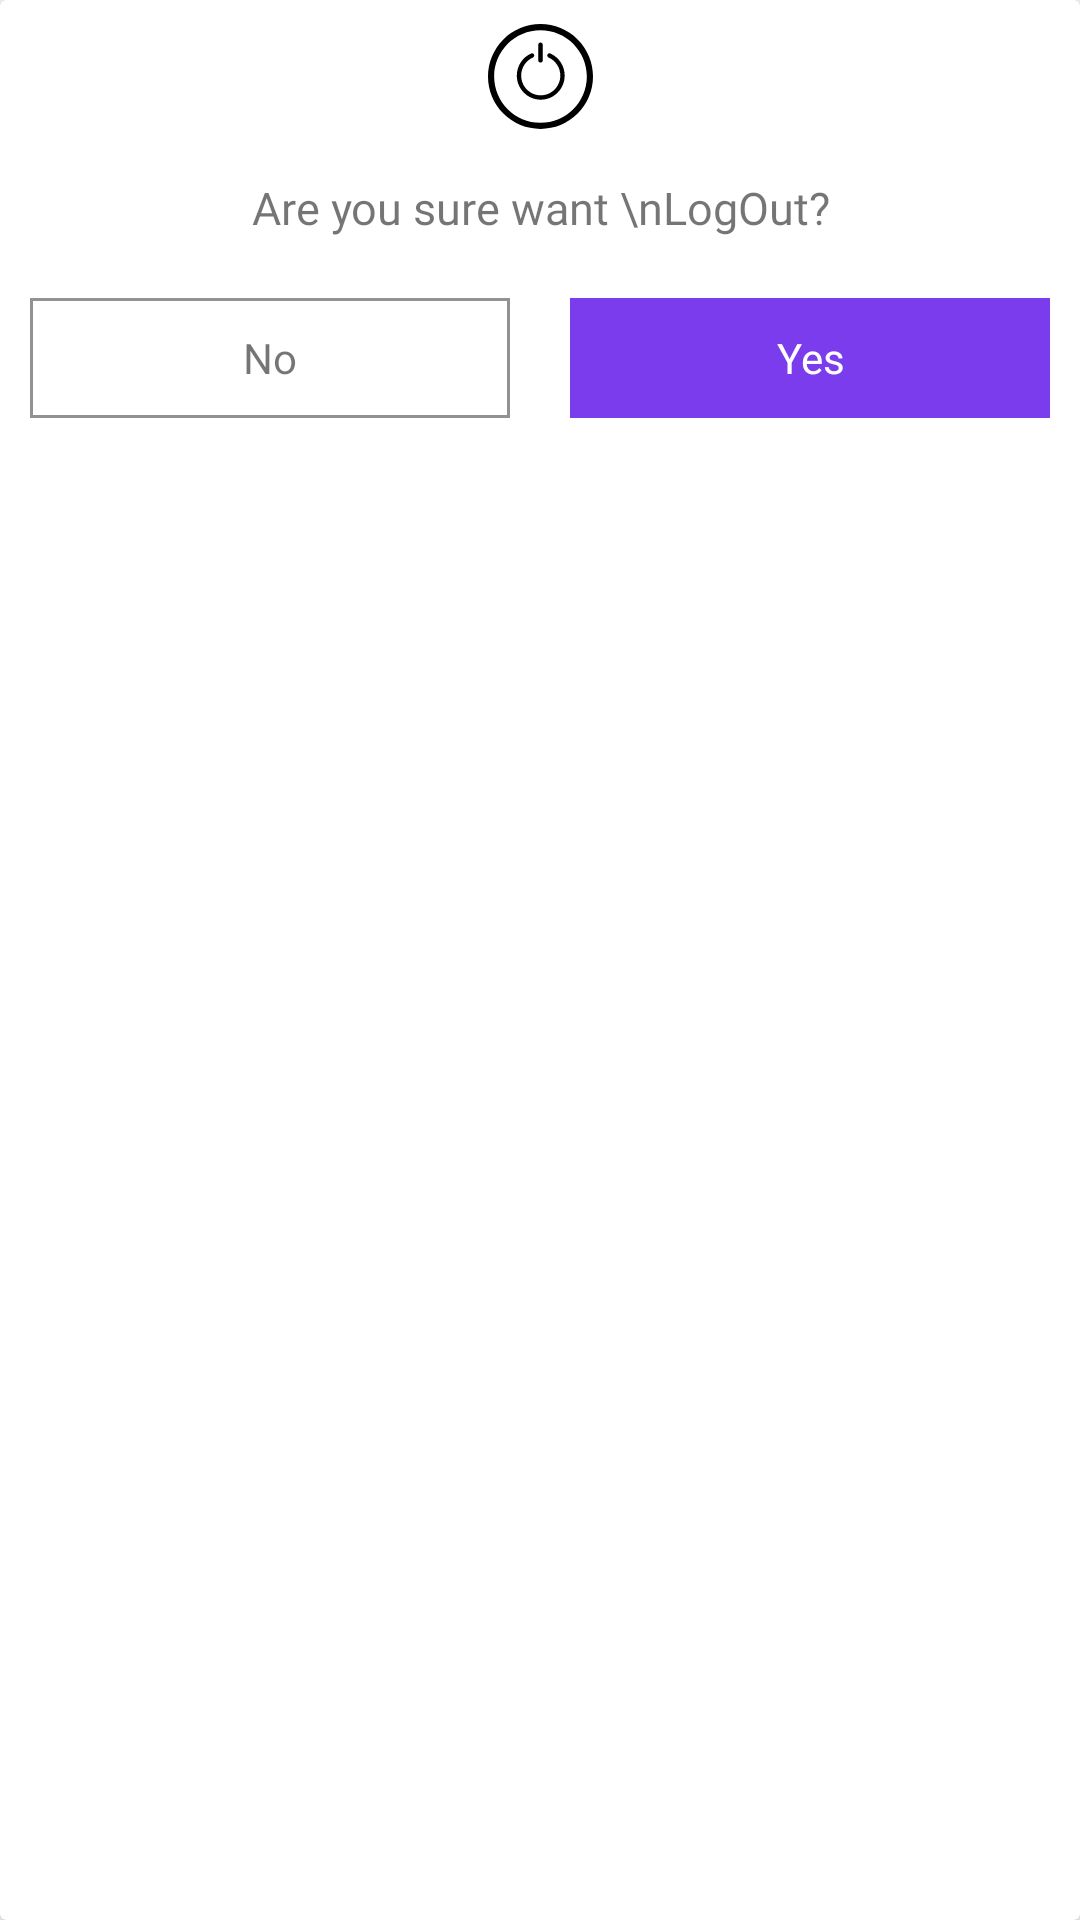

Where to tap for icons on this 1080×1920 app screen, as [x,y]:
power: [540,76]
